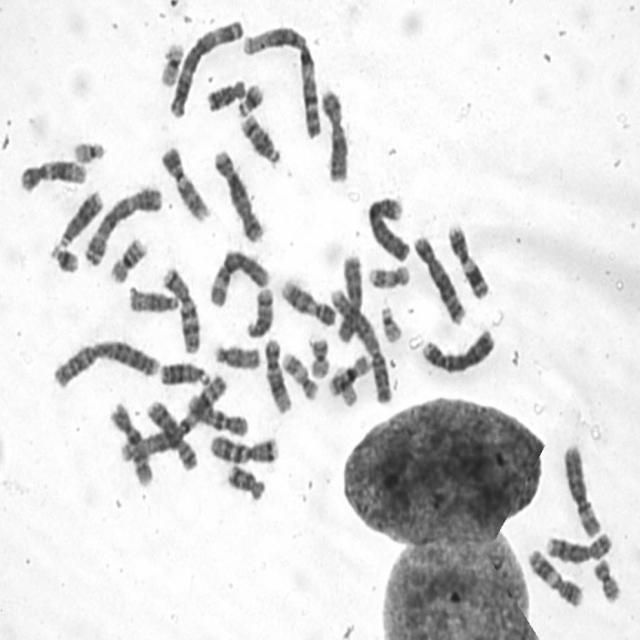A1: (114, 367, 229, 465), (238, 20, 323, 139)
A2: (324, 283, 393, 405), (47, 332, 161, 390)
A3: (165, 12, 245, 118), (80, 180, 163, 268)
B4: (417, 322, 497, 376), (363, 190, 412, 263)
B5: (210, 142, 266, 244), (410, 228, 468, 326)
C10: (106, 398, 155, 488), (182, 387, 251, 438)
C11: (524, 542, 586, 610), (443, 217, 492, 301)
C12: (15, 152, 89, 194), (260, 332, 294, 415)
C6: (560, 437, 604, 539), (205, 243, 271, 309)
C7: (158, 260, 202, 356), (206, 428, 280, 465)
C8: (141, 394, 198, 472), (542, 525, 614, 564)
C9: (157, 140, 211, 224), (277, 272, 338, 329)
D13: (53, 184, 104, 250), (155, 355, 211, 388)
D14: (236, 108, 282, 167), (242, 281, 275, 339)
D15: (124, 281, 181, 314), (209, 338, 262, 372)
E16: (324, 348, 373, 398), (105, 230, 148, 284)
E17: (278, 346, 321, 402), (363, 258, 412, 290)
E18: (223, 457, 267, 502), (202, 73, 247, 113)
F19: (155, 35, 185, 88), (327, 362, 359, 408)
F20: (589, 553, 622, 604), (305, 331, 332, 380)
G21: (233, 77, 266, 118), (46, 238, 80, 274)
G22: (377, 299, 404, 345), (69, 134, 107, 164)
X: (316, 83, 351, 184), (333, 248, 365, 344)
